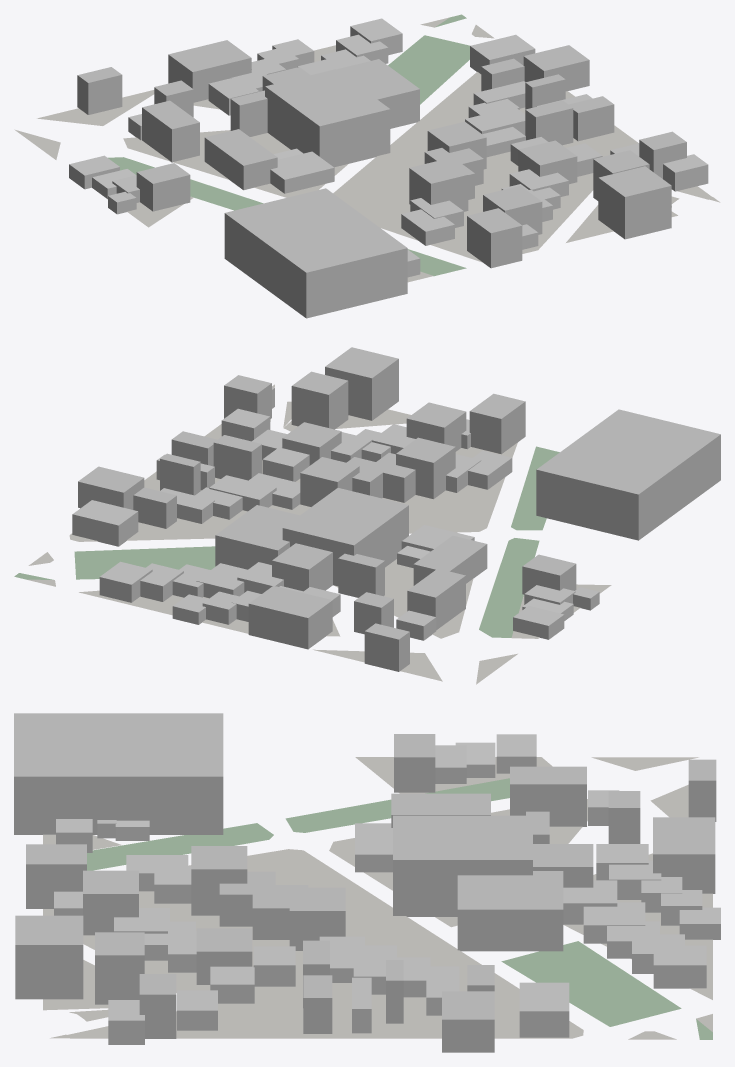
The model's file is 108_108_mid.glb.
The picture shows the model from 3 angles, top to bottom: view 1: azimuth 30°, elevation 25°; view 2: azimuth 150°, elevation 25°; view 3: azimuth 270°, elevation 25°; orthographic projection. The views are drawn at different scales.
Bounding box in the file's own units: 535 × 49.13 × 528.
